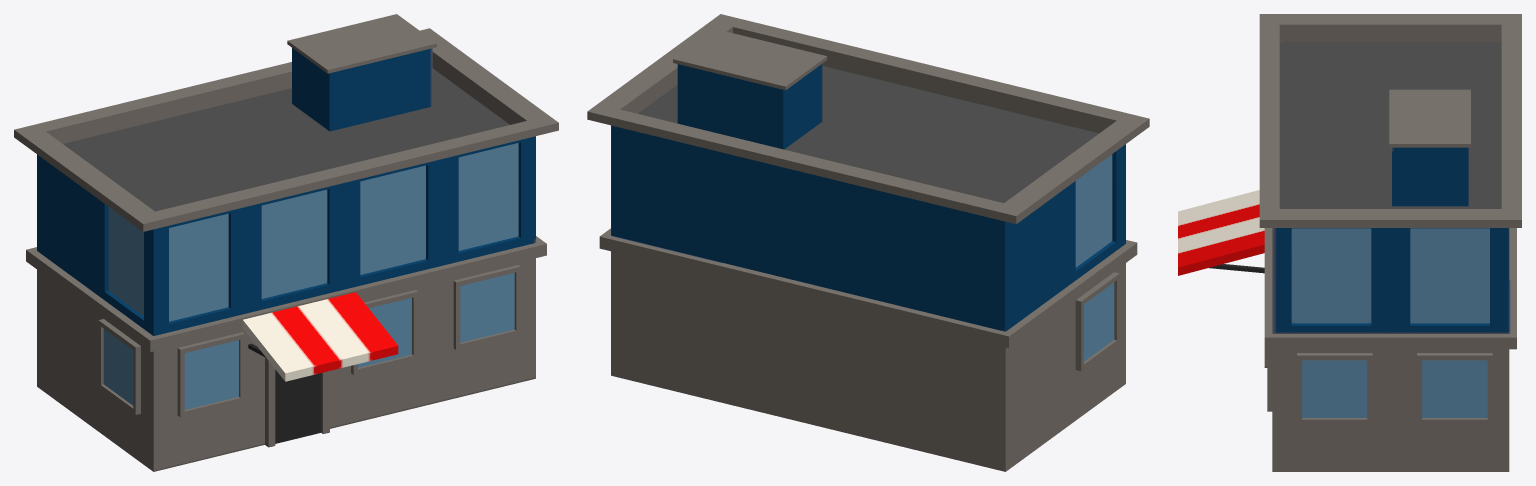
File: CityBuilding03.glb
The picture shows the model from 3 angles, left to right: view 1: azimuth 30°, elevation 25°; view 2: azimuth 150°, elevation 25°; view 3: azimuth 270°, elevation 25°; orthographic projection. The views are drawn at different scales.
Parts seen in each view (by area): view 1: CityBuilding03; view 2: CityBuilding03; view 3: CityBuilding03.
Part boxes in pixels (box(x1,y1,x2,y2)): CityBuilding03: box(14, 14, 558, 471); CityBuilding03: box(587, 14, 1149, 471); CityBuilding03: box(1178, 14, 1521, 471).
Size of what is drawn, in the model's own units: 6.87 by 4.78 by 4.84.
Materials: 1 (1 with a texture image).
